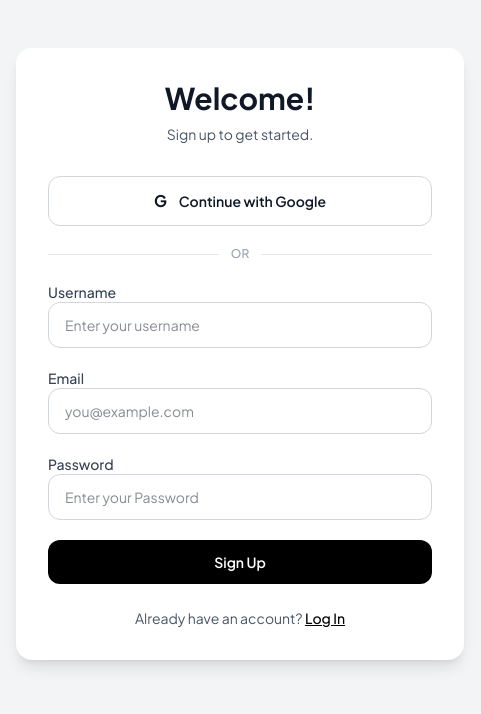
Test case: RegisterForm › does not submit a username that is too short after trimming
This screenshot has width=481, height=714.
Type " ab " into the field labelled "Username" at (240, 325), box 48,302 -> 432,348
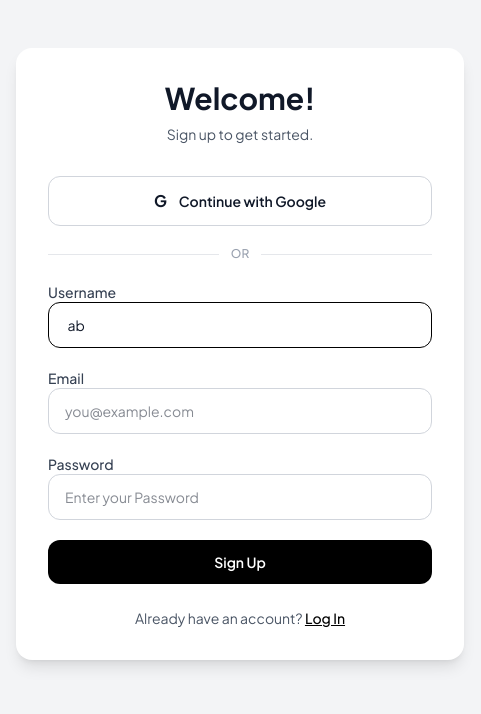
Type "test@example.com" into the field labelled "Email" at (240, 411), box 48,388 -> 432,434
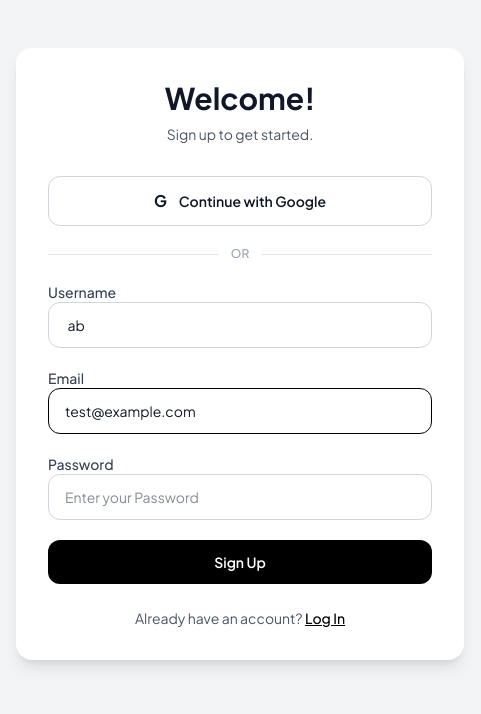
Type "Password123!" into the password field labelled "Password" at (240, 497), box 48,474 -> 432,520
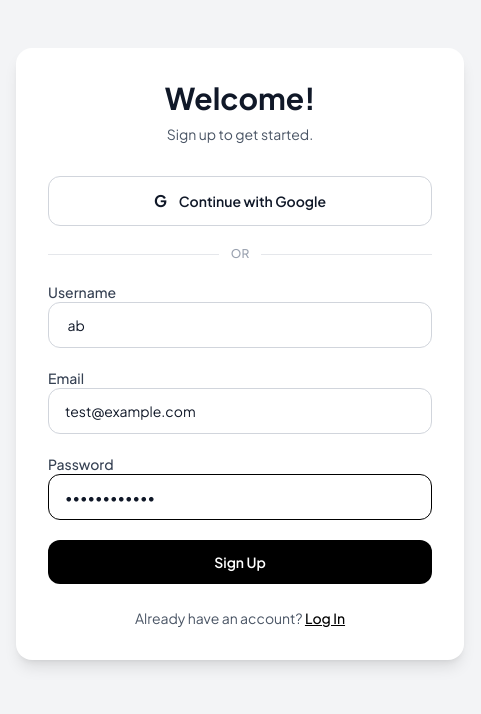
Click the button "Sign Up" at (240, 562), box 48,540 -> 432,584
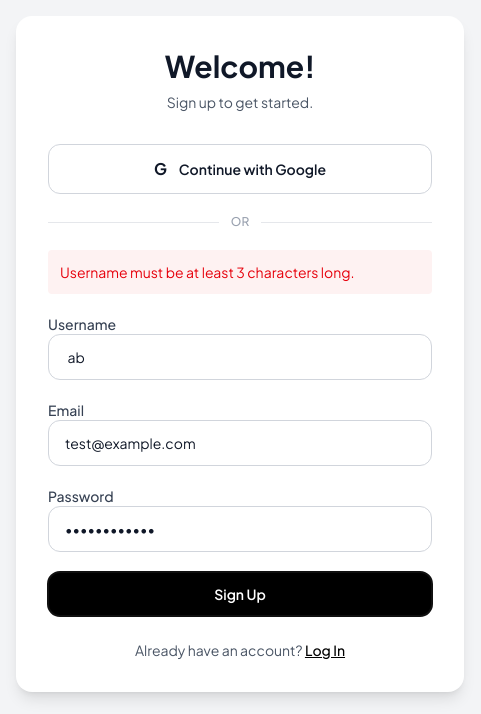
Now the text "Username must be at least 3 characters long." is shown, box 48,250 -> 432,294
